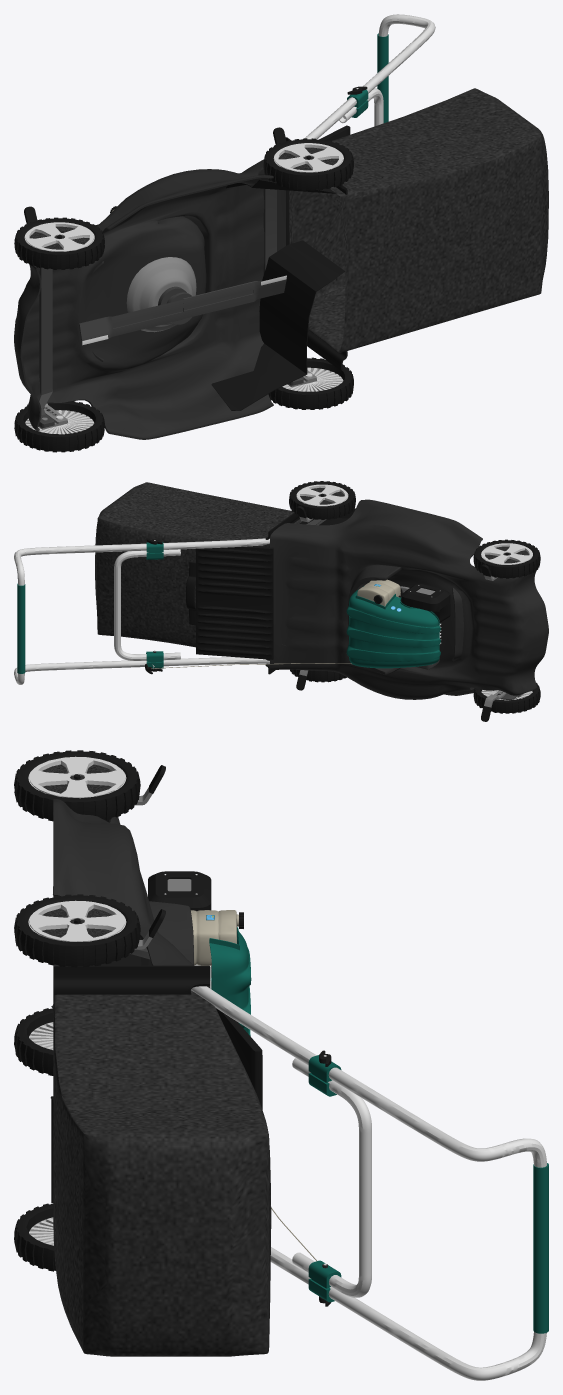
The model's file is LawnMower.fbx.
3 views of the same model, one above another, from view 1: azimuth 30°, elevation 25°; view 2: azimuth 150°, elevation 25°; view 3: azimuth 270°, elevation 25° (orthographic). The views are drawn at different scales.
Parts seen in each view (by area): view 1: LawnMower_LOD0; view 2: LawnMower_LOD0; view 3: LawnMower_LOD0.
Part boxes in pixels (x1=…): LawnMower_LOD0: x1=14, y1=14, x2=548, y2=452; LawnMower_LOD0: x1=14, y1=481, x2=548, y2=721; LawnMower_LOD0: x1=14, y1=750, x2=548, y2=1380.
Size of what is drawn, in the model's own units: 0.9962 by 1.7 by 0.7135.
Materials: 1 (1 with a texture image).
